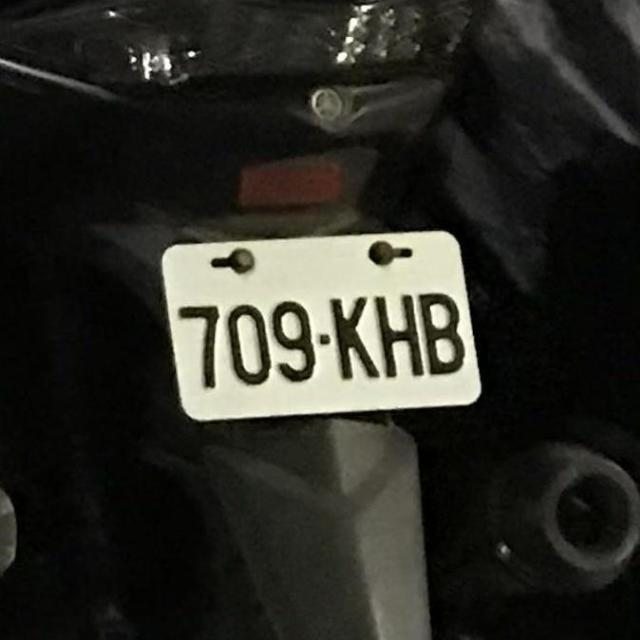W: (149, 212, 487, 438)
